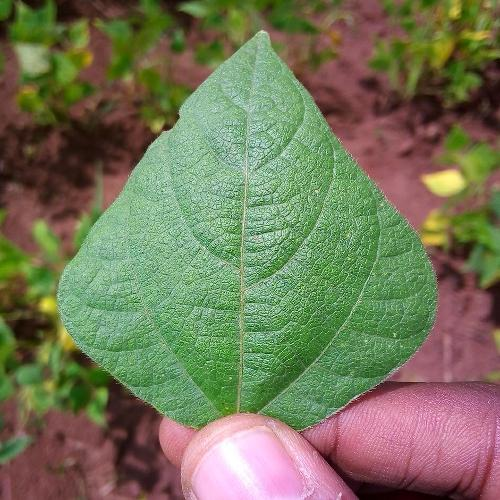embun tepung: (161, 131, 330, 391)
